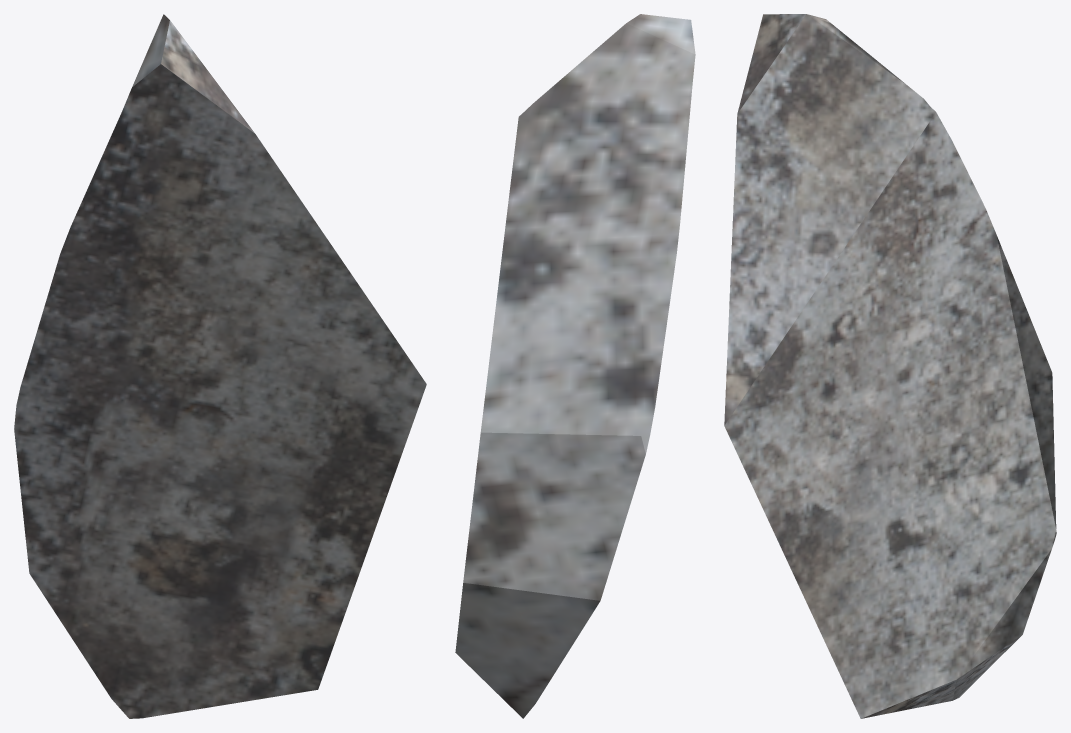
The model's file is Asteroid_Medium_001_02_003_03_010.fbx.
3 views of the same model, side by side, from view 1: azimuth 30°, elevation 25°; view 2: azimuth 150°, elevation 25°; view 3: azimuth 270°, elevation 25° (orthographic). The views are drawn at different scales.
Visible parts, largest first — view 1: Asteroid_Medium_001_02_003_03_010; view 2: Asteroid_Medium_001_02_003_03_010; view 3: Asteroid_Medium_001_02_003_03_010.
Boxes of the visible parts, bbox=[...] form: Asteroid_Medium_001_02_003_03_010: bbox=[14, 14, 426, 718]; Asteroid_Medium_001_02_003_03_010: bbox=[455, 14, 695, 718]; Asteroid_Medium_001_02_003_03_010: bbox=[724, 14, 1056, 718].
Size of the model in its own units: 4.73 by 12.02 by 5.46.
